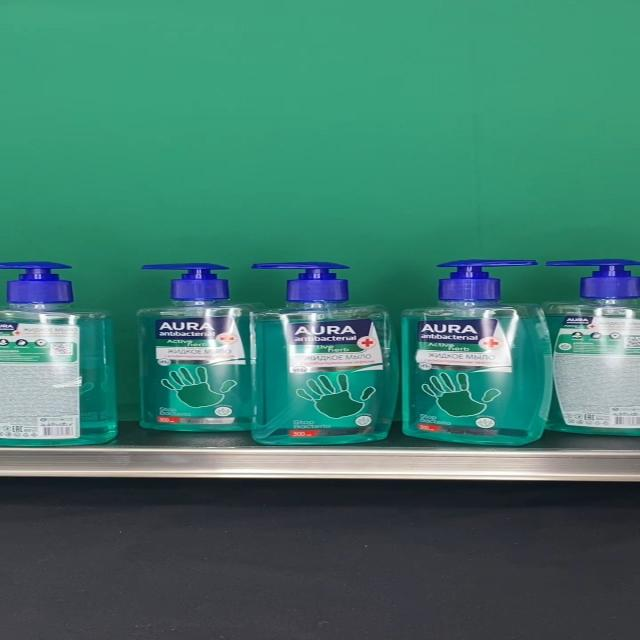Bottle: (399, 258, 553, 445), (252, 263, 399, 444), (0, 260, 118, 446), (138, 263, 268, 431), (543, 258, 640, 435)
Cap: (438, 258, 538, 302), (545, 259, 640, 299), (252, 262, 350, 300), (142, 264, 230, 300), (0, 261, 73, 303)
